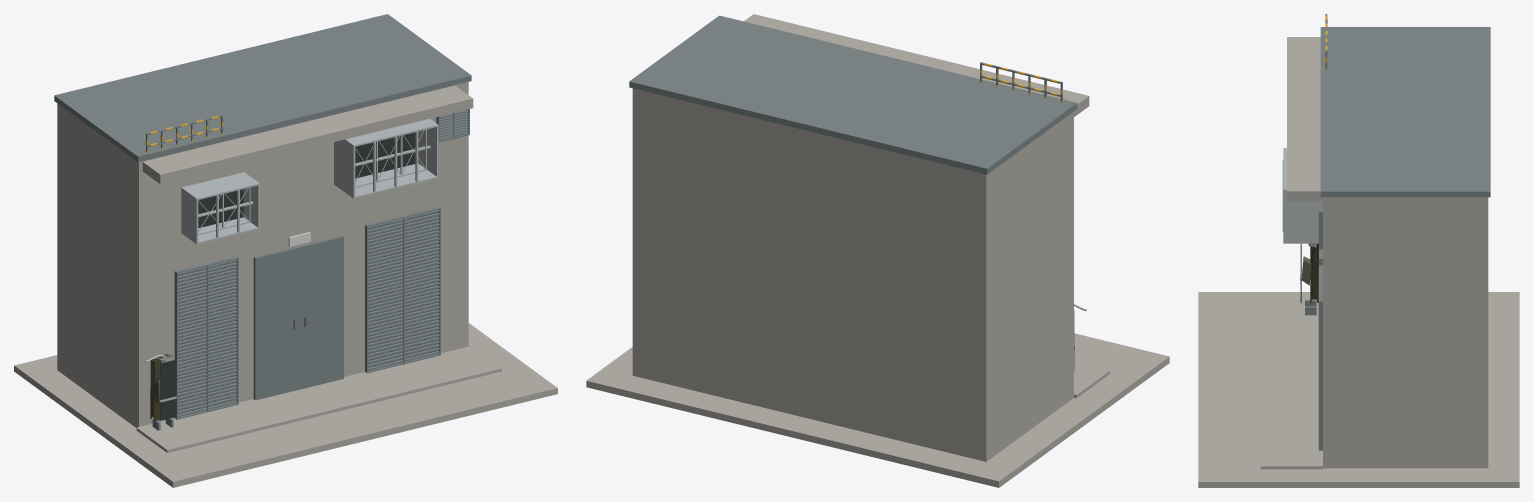
The picture shows the model from 3 angles, left to right: view 1: azimuth 30°, elevation 25°; view 2: azimuth 150°, elevation 25°; view 3: azimuth 270°, elevation 25°; orthographic projection. The views are drawn at different scales.
Visible parts, largest first — view 1: 空压机房灰色主体围护墙, 示意屋面, 示意侧墙 left, 连续地坪和通道, 中央落地双扇灰色门, 门右侧双分格高通风格栅, 门前连续狭窄浅土黄色门槛地坪, 门左侧双分格高通风格栅, 上部横贯立面的厚外挑混凝土板梁, 右侧更高位置的大型外挑通风罩, 左侧外挑矩形通风罩, 右通风罩内部深色开口底 (+6 smaller); view 2: 示意背墙, 示意屋面, 示意侧墙 left, 连续地坪和通道, 上部横贯立面的厚外挑混凝土板梁, 示意侧墙 right, 空压机房灰色主体围护墙, 挑板左上缘局部金属栏杆, 门前连续狭窄浅土黄色门槛地坪; view 3: 示意侧墙 right, 示意屋面, 连续地坪和通道, 门前连续狭窄浅土黄色门槛地坪, 上部横贯立面的厚外挑混凝土板梁, 空压机房灰色主体围护墙, 右侧更高位置的大型外挑通风罩, 门右侧双分格高通风格栅, 左下窄高金属箱柜壳体 · Tripo 1.
Part boxes in pixels (<box>): 空压机房灰色主体围护墙: <box>133,82,468,427</box>; 示意屋面: <box>54,14,471,162</box>; 示意侧墙 left: <box>57,103,133,425</box>; 连续地坪和通道: <box>14,323,557,487</box>; 中央落地双扇灰色门: <box>253,235,343,400</box>; 门右侧双分格高通风格栅: <box>365,206,440,373</box>; 门前连续狭窄浅土黄色门槛地坪: <box>136,346,501,452</box>; 门左侧双分格高通风格栅: <box>174,256,238,419</box>; 上部横贯立面的厚外挑混凝土板梁: <box>142,85,473,184</box>; 右侧更高位置的大型外挑通风罩: <box>334,118,438,198</box>; 左侧外挑矩形通风罩: <box>181,172,259,244</box>; 右通风罩内部深色开口底: <box>355,132,415,176</box>; 示意背墙: <box>643,91,975,459</box>; 示意屋面: <box>629,15,1077,174</box>; 示意侧墙 left: <box>976,116,1067,461</box>; 连续地坪和通道: <box>586,333,1169,487</box>; 上部横贯立面的厚外挑混凝土板梁: <box>744,14,1089,116</box>; 示意侧墙 right: <box>632,88,642,377</box>; 空压机房灰色主体围护墙: <box>1068,111,1073,401</box>; 挑板左上缘局部金属栏杆: <box>980,62,1062,102</box>; 门前连续狭窄浅土黄色门槛地坪: <box>1074,362,1109,398</box>; 示意侧墙 right: <box>1334,197,1488,468</box>; 示意屋面: <box>1320,27,1490,197</box>; 连续地坪和通道: <box>1198,292,1519,487</box>; 门前连续狭窄浅土黄色门槛地坪: <box>1260,301,1322,469</box>; 上部横贯立面的厚外挑混凝土板梁: <box>1287,37,1322,200</box>; 空压机房灰色主体围护墙: <box>1323,197,1334,468</box>; 右侧更高位置的大型外挑通风罩: <box>1282,148,1318,243</box>; 门右侧双分格高通风格栅: <box>1318,265,1322,450</box>; 左下窄高金属箱柜壳体 · Tripo 1: <box>1301,243,1318,303</box>.
Size of the model in its own units: 15.87 by 11.78 by 11.36.
Materials: 7 (1 with a texture image).
